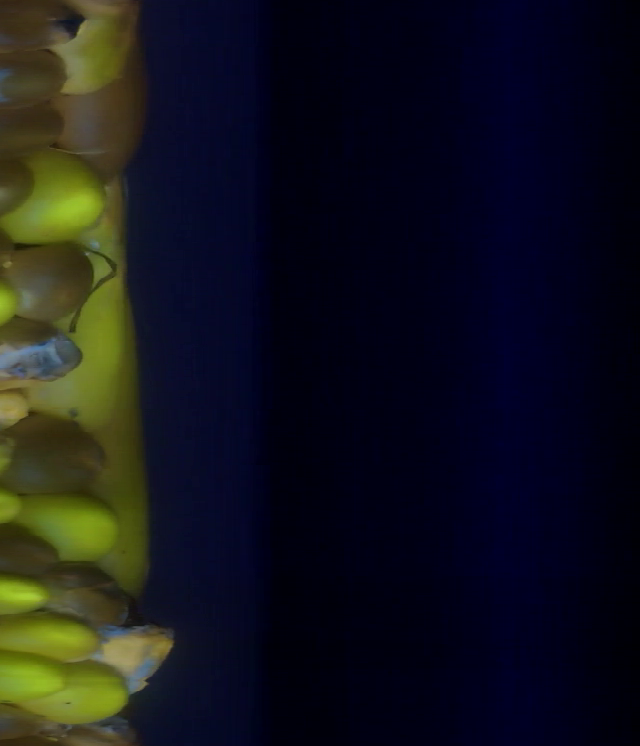fluorescent: (0, 142, 111, 252), (11, 486, 127, 570), (19, 656, 138, 727), (51, 8, 126, 103), (0, 607, 113, 669), (0, 645, 72, 711), (0, 564, 56, 626), (0, 479, 34, 537)
nonfluorescent: (51, 38, 152, 186), (0, 408, 112, 501), (0, 239, 102, 328), (33, 558, 141, 634), (0, 313, 94, 398), (0, 45, 75, 118), (0, 1, 89, 58), (0, 101, 70, 163), (0, 519, 65, 582), (0, 153, 37, 233), (0, 705, 59, 745), (0, 217, 31, 287), (0, 384, 37, 437)
